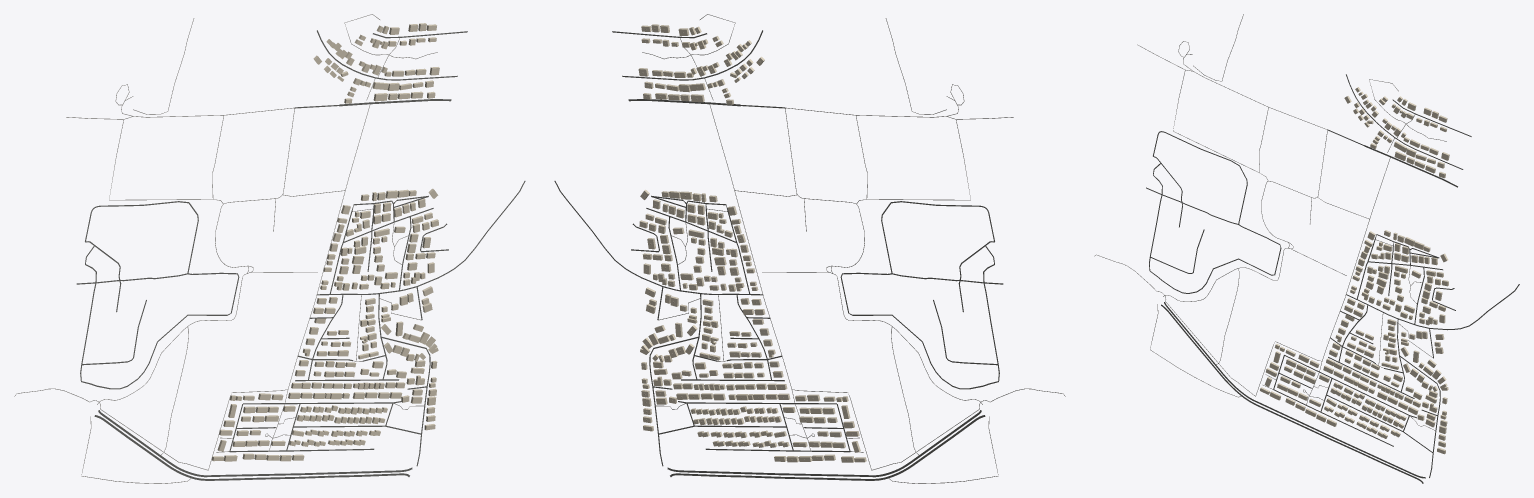
Rendered from historic-palestine-06_27_3482_3214.glb.
3 renders of one model, left to right at view 1: azimuth 30°, elevation 25°; view 2: azimuth 150°, elevation 25°; view 3: azimuth 330°, elevation 25°, orthographic. The views are drawn at different scales.
Visible parts, largest first — view 1: Road שרף, Road שרף.001, Road .017; view 2: Road שרף, Road שרף.001, Road .017; view 3: Road שרף.001, Road שרף, Road .017.
Boxes of the visible parts, x1,y1,x2,y2 form: Road שרף: (98, 410, 412, 477); Road שרף.001: (94, 415, 409, 480); Road .017: (80, 245, 239, 389); Road שרף: (667, 410, 981, 477); Road שרף.001: (670, 415, 985, 480); Road .017: (840, 245, 999, 389); Road שרף.001: (1161, 304, 1423, 483); Road שרף: (1164, 302, 1425, 478); Road .017: (1149, 163, 1281, 293).
Bounding box in the file's own units: 1444 × 1382 × 8.7.
